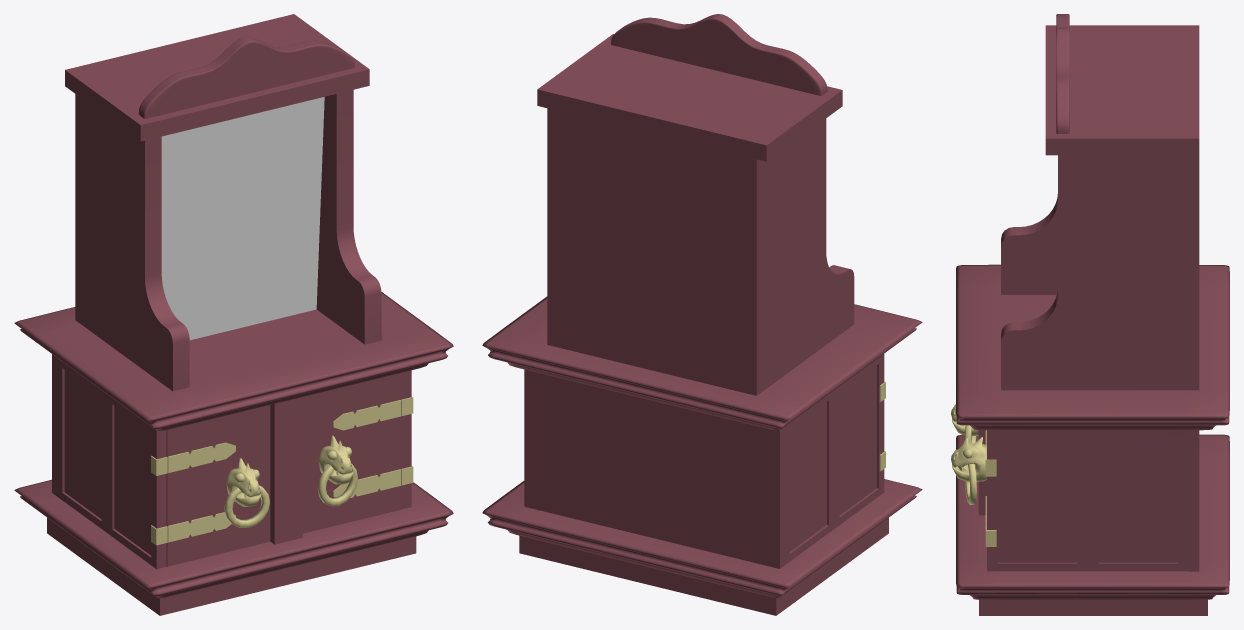
File: MirrorCupboardAsset.fbx
3 renders of one model, left to right at view 1: azimuth 30°, elevation 25°; view 2: azimuth 150°, elevation 25°; view 3: azimuth 270°, elevation 25°, orthographic.
Visible parts, largest first — view 1: trn_Cupboard, Plane.015, Cylinder.057; view 2: trn_Cupboard; view 3: trn_Cupboard, Cylinder.057.
Part boxes in pixels (box(x1,y1,x2,y2)): trn_Cupboard: box(14, 14, 453, 615); Plane.015: box(161, 97, 324, 340); Cylinder.057: box(151, 396, 413, 545); trn_Cupboard: box(482, 14, 922, 615); trn_Cupboard: box(956, 14, 1229, 615); Cylinder.057: box(951, 404, 996, 546).
Size of the model in its own units: 101 by 77.93 by 161.
